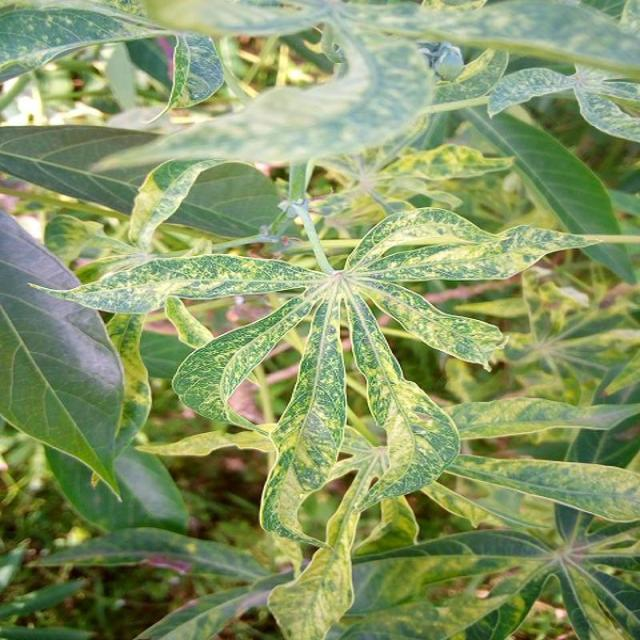cassava leaf: (26, 198, 635, 550), (0, 206, 126, 501)
